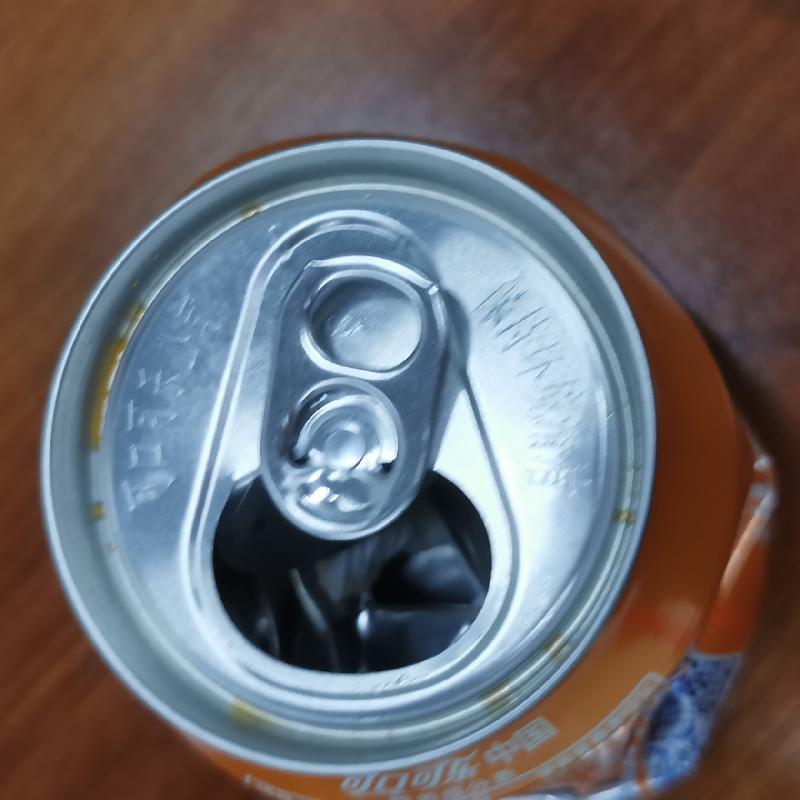cans: (36, 129, 784, 799)
